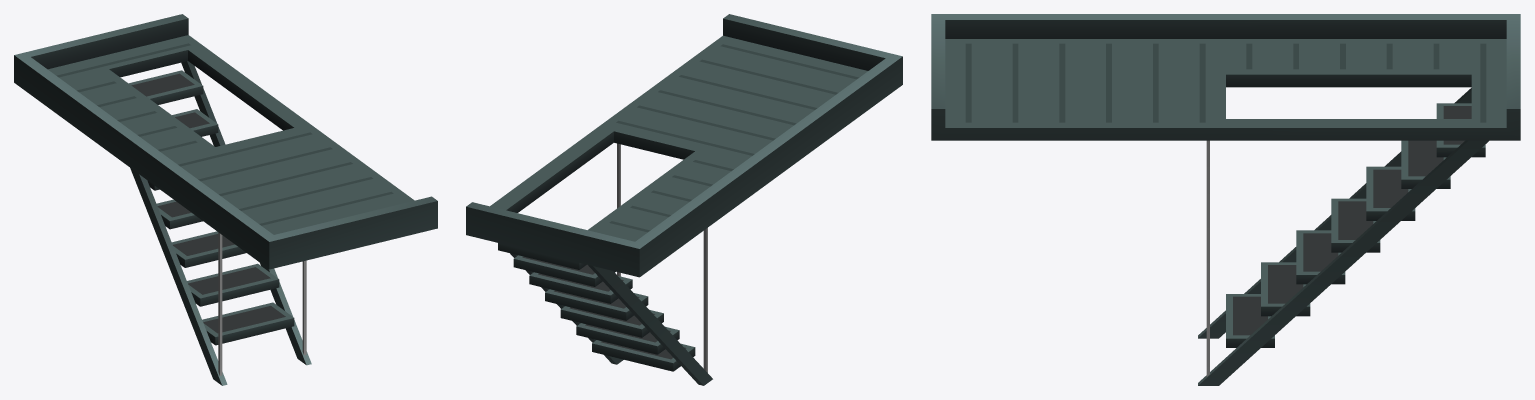
Rendered from Emergency_Stairs_1A.fbx.
3 renders of one model, left to right at view 1: azimuth 30°, elevation 25°; view 2: azimuth 150°, elevation 25°; view 3: azimuth 270°, elevation 25°, orthographic. The views are drawn at different scales.
Visible parts, largest first — view 1: Emergency_Stairs_1A; view 2: Emergency_Stairs_1A; view 3: Emergency_Stairs_1A.
Part boxes in pixels (bbox=[...]): Emergency_Stairs_1A: bbox=[14, 14, 437, 385]; Emergency_Stairs_1A: bbox=[466, 14, 902, 385]; Emergency_Stairs_1A: bbox=[931, 14, 1520, 385].
Bounding box in the file's own units: 320 × 445 × 840.
